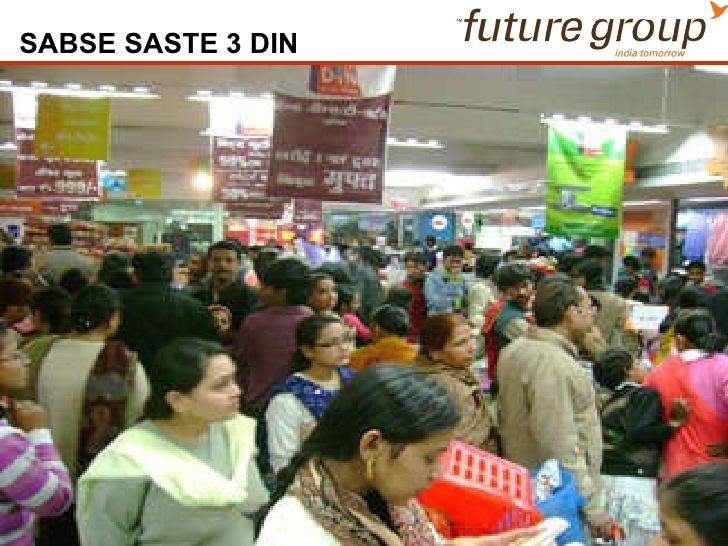Age_20_30: (357, 376, 456, 507), (161, 347, 245, 422), (300, 323, 357, 371)
Age_30_40: (3, 328, 39, 396), (208, 247, 242, 281)
Age_40_50: (541, 281, 603, 345), (430, 318, 479, 366)
E_Indian: (357, 376, 456, 507), (161, 347, 245, 422), (541, 281, 603, 345), (300, 323, 357, 371), (3, 328, 39, 396), (430, 318, 479, 366), (208, 247, 242, 281)
Emotion_Neutral: (357, 376, 456, 507), (161, 347, 245, 422), (541, 281, 603, 345), (300, 323, 357, 371), (3, 328, 39, 396), (430, 318, 479, 366), (208, 247, 242, 281)
G_ Female: (357, 376, 456, 507), (161, 347, 245, 422), (300, 323, 357, 371), (3, 328, 39, 396), (430, 318, 479, 366)
G_Male: (541, 281, 603, 345), (208, 247, 242, 281)
Not_Face: (665, 464, 721, 544), (76, 293, 122, 333), (272, 268, 320, 306), (675, 313, 715, 353), (607, 352, 646, 388), (138, 255, 179, 287), (376, 305, 408, 338), (47, 226, 81, 248), (446, 249, 466, 273)
